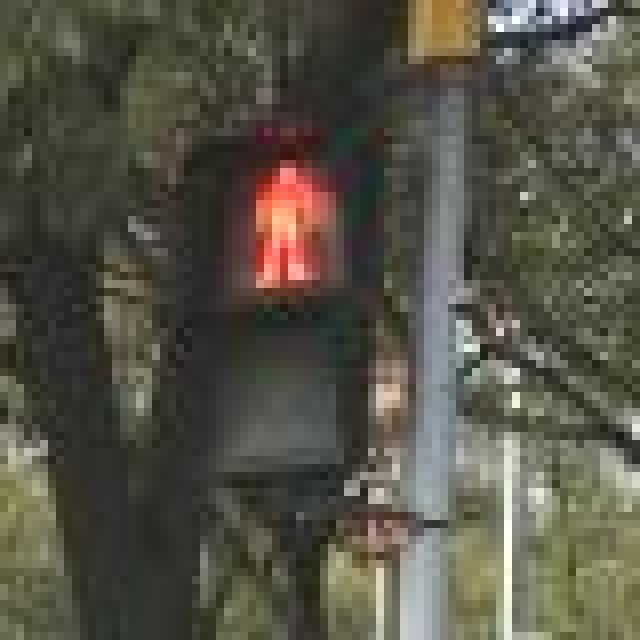redlight: (200, 120, 368, 480)
